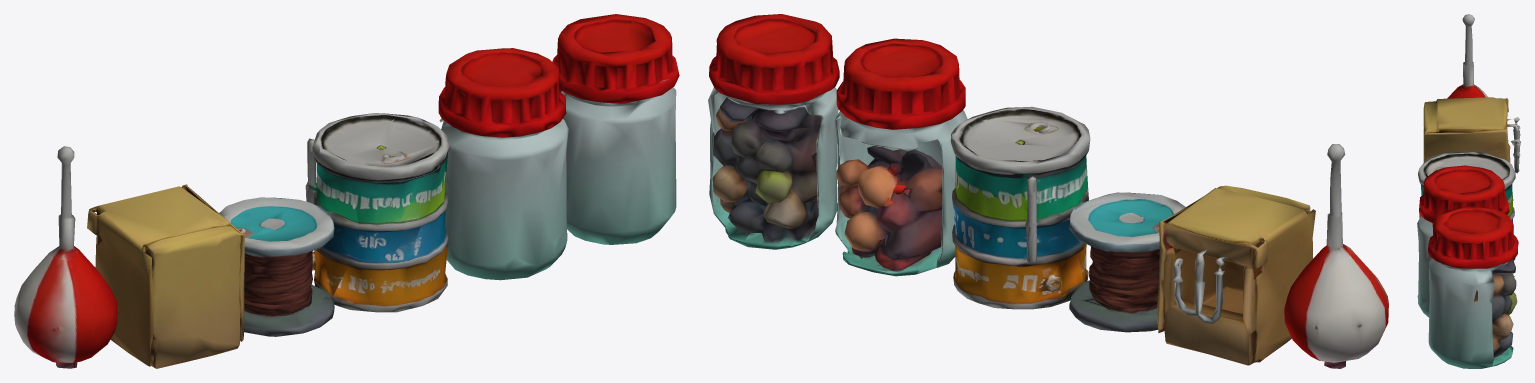
Rendered from prop-shelfgoods.glb.
3 renders of one model, left to right at view 1: azimuth 30°, elevation 25°; view 2: azimuth 150°, elevation 25°; view 3: azimuth 270°, elevation 25°, orthographic. The views are drawn at different scales.
Visible parts, largest first — view 1: tripo_node_ede9dc75-092b-45f3-8702-ec6ae69ae878; view 2: tripo_node_ede9dc75-092b-45f3-8702-ec6ae69ae878; view 3: tripo_node_ede9dc75-092b-45f3-8702-ec6ae69ae878.
Part boxes in pixels (x1,y1,x2,y2): tripo_node_ede9dc75-092b-45f3-8702-ec6ae69ae878: (14, 14, 679, 368); tripo_node_ede9dc75-092b-45f3-8702-ec6ae69ae878: (708, 14, 1388, 368); tripo_node_ede9dc75-092b-45f3-8702-ec6ae69ae878: (1417, 14, 1520, 368).
Bounding box in the file's own units: 0.9976 × 0.3181 × 0.1947.
1 material, 1 textured.
